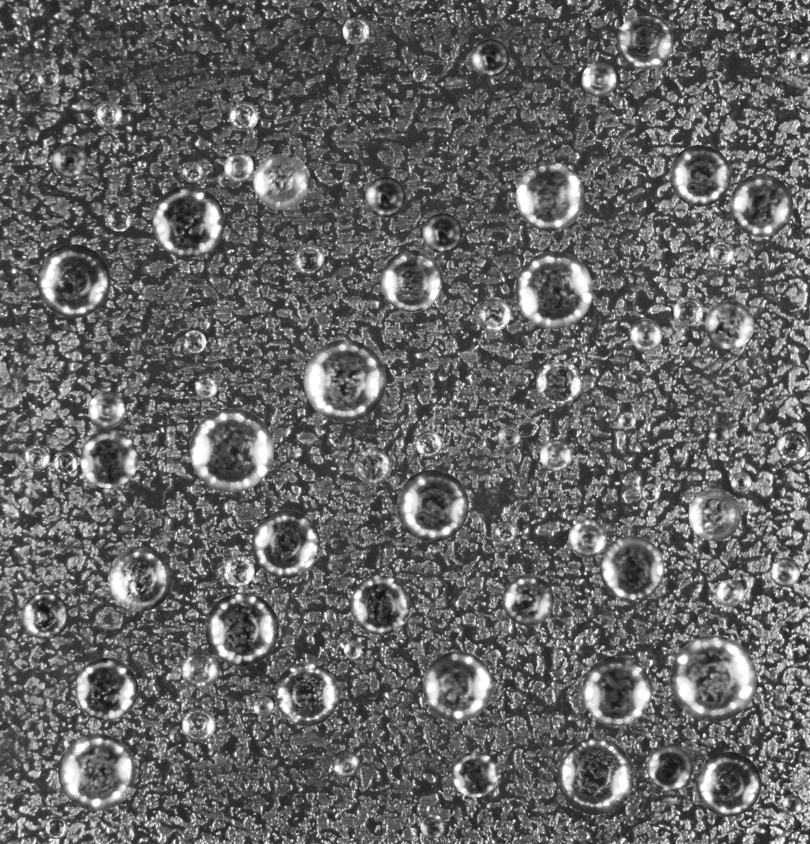Bubble: (670, 635, 756, 722), (189, 408, 273, 492), (303, 339, 386, 422), (515, 251, 593, 329), (557, 738, 634, 815), (58, 733, 135, 810), (36, 244, 110, 317), (205, 592, 278, 666), (152, 185, 224, 257), (396, 469, 468, 541), (422, 651, 492, 721), (582, 656, 651, 725), (515, 162, 584, 231), (252, 510, 320, 578), (696, 751, 761, 816), (107, 546, 172, 611), (599, 535, 664, 600), (275, 662, 339, 726), (75, 657, 138, 720), (730, 173, 793, 236), (669, 144, 731, 206), (380, 250, 442, 311), (350, 575, 410, 635), (80, 430, 138, 488), (253, 153, 310, 209), (617, 13, 673, 69), (688, 488, 741, 541), (502, 574, 554, 626), (705, 300, 754, 349), (21, 592, 68, 639), (452, 751, 498, 797), (536, 359, 581, 405), (648, 745, 693, 790), (365, 176, 406, 217), (422, 213, 462, 253), (471, 38, 509, 77), (568, 519, 606, 558), (354, 446, 391, 484), (181, 651, 218, 688), (88, 392, 125, 428), (581, 62, 616, 97), (52, 143, 86, 178), (476, 297, 510, 331), (182, 708, 215, 741), (630, 318, 662, 351), (776, 430, 808, 462), (540, 439, 572, 471), (223, 555, 254, 586), (294, 244, 324, 275), (770, 557, 800, 587), (224, 152, 253, 182), (673, 297, 703, 326), (229, 101, 258, 130), (716, 579, 744, 607), (94, 100, 122, 128), (342, 17, 369, 44), (415, 430, 442, 457), (332, 750, 359, 777), (708, 240, 734, 266), (23, 444, 49, 470), (52, 450, 77, 476), (420, 814, 444, 838), (107, 207, 131, 231), (182, 330, 206, 353), (497, 425, 520, 448), (45, 816, 67, 839), (195, 377, 217, 399), (494, 521, 516, 543), (37, 67, 59, 89), (181, 161, 203, 182), (730, 472, 751, 493), (709, 423, 730, 444), (782, 794, 803, 815), (789, 46, 809, 66), (640, 483, 660, 503), (253, 696, 273, 716), (343, 640, 362, 659), (618, 411, 636, 429), (412, 67, 427, 81), (566, 642, 579, 654)
